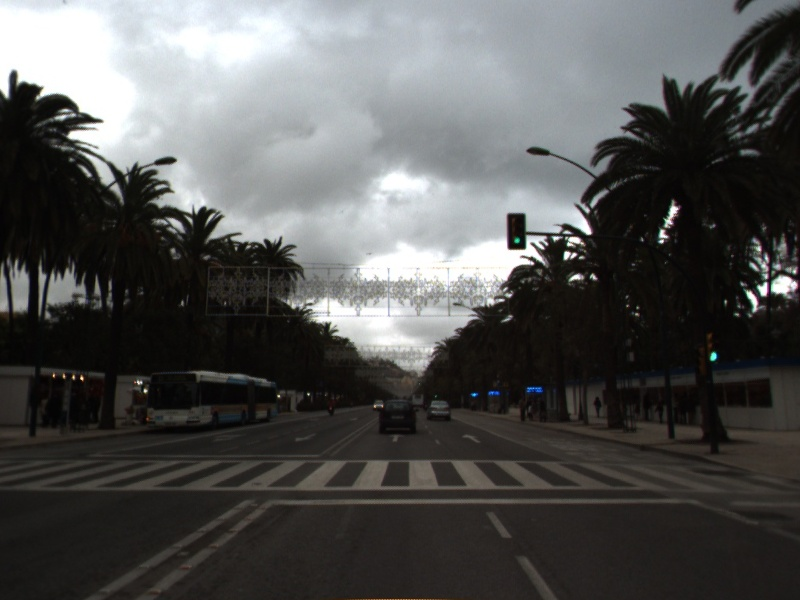STRAIGHT: (460, 432, 483, 445), (386, 432, 406, 444)
